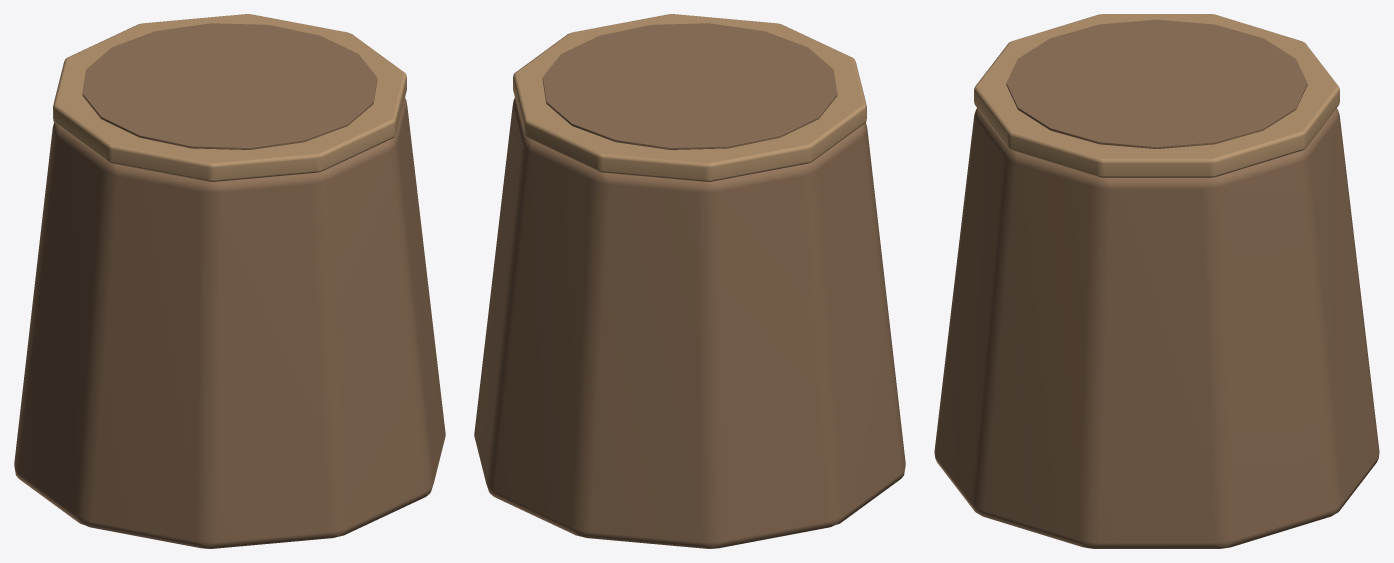
Rendered from SM_Stump_01.fbx.
3 views of the same model, side by side, from view 1: azimuth 30°, elevation 25°; view 2: azimuth 150°, elevation 25°; view 3: azimuth 270°, elevation 25° (orthographic).
Visible parts, largest first — view 1: SM_Stump_01; view 2: SM_Stump_01; view 3: SM_Stump_01.
Boxes of the visible parts, left/top/right/bottom form: SM_Stump_01: left=14, top=14, right=445, bottom=548; SM_Stump_01: left=474, top=14, right=905, bottom=548; SM_Stump_01: left=934, top=14, right=1379, bottom=548.
Bounding box in the file's own units: 0.9079 × 0.89 × 0.9455.
